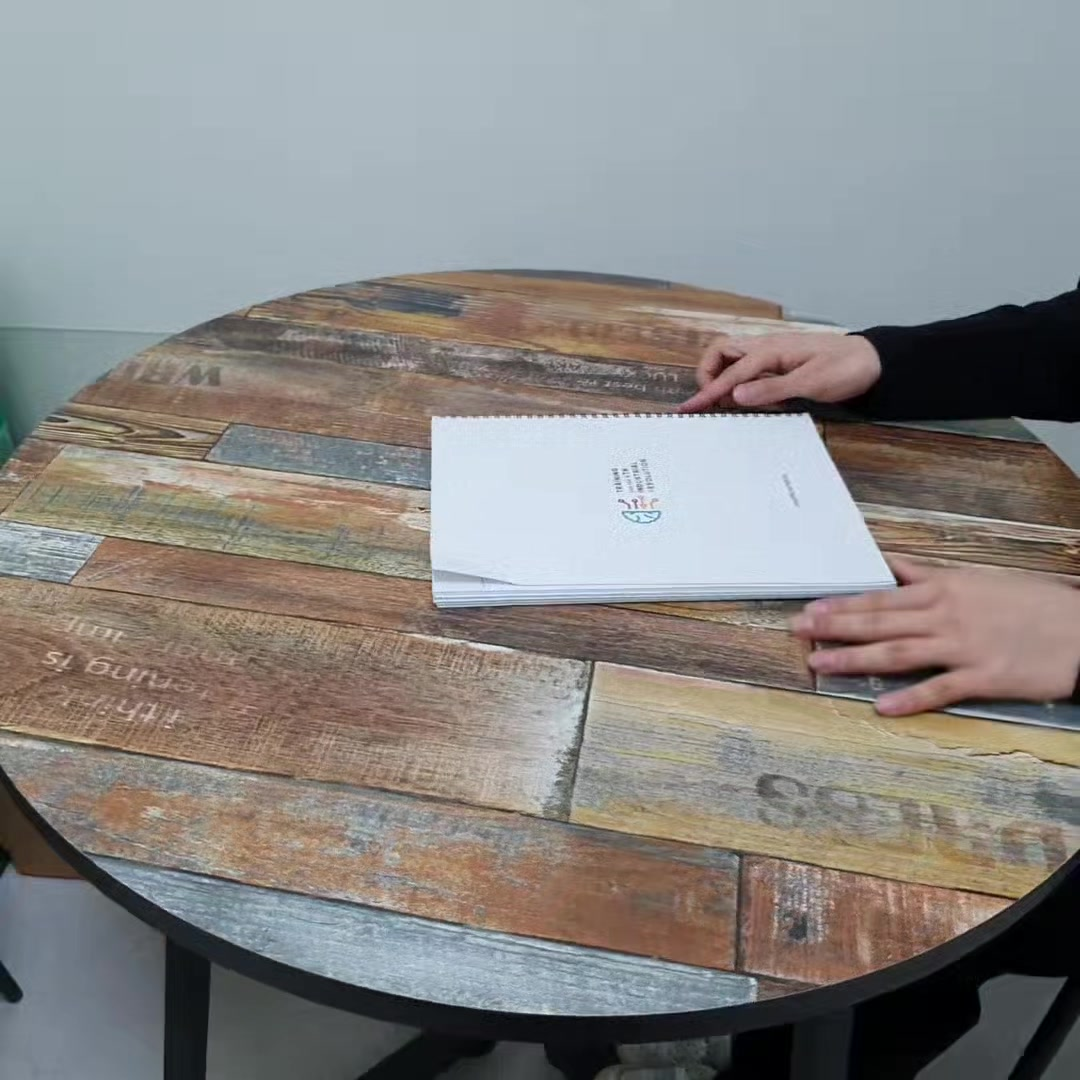book: (427, 394, 900, 613)
